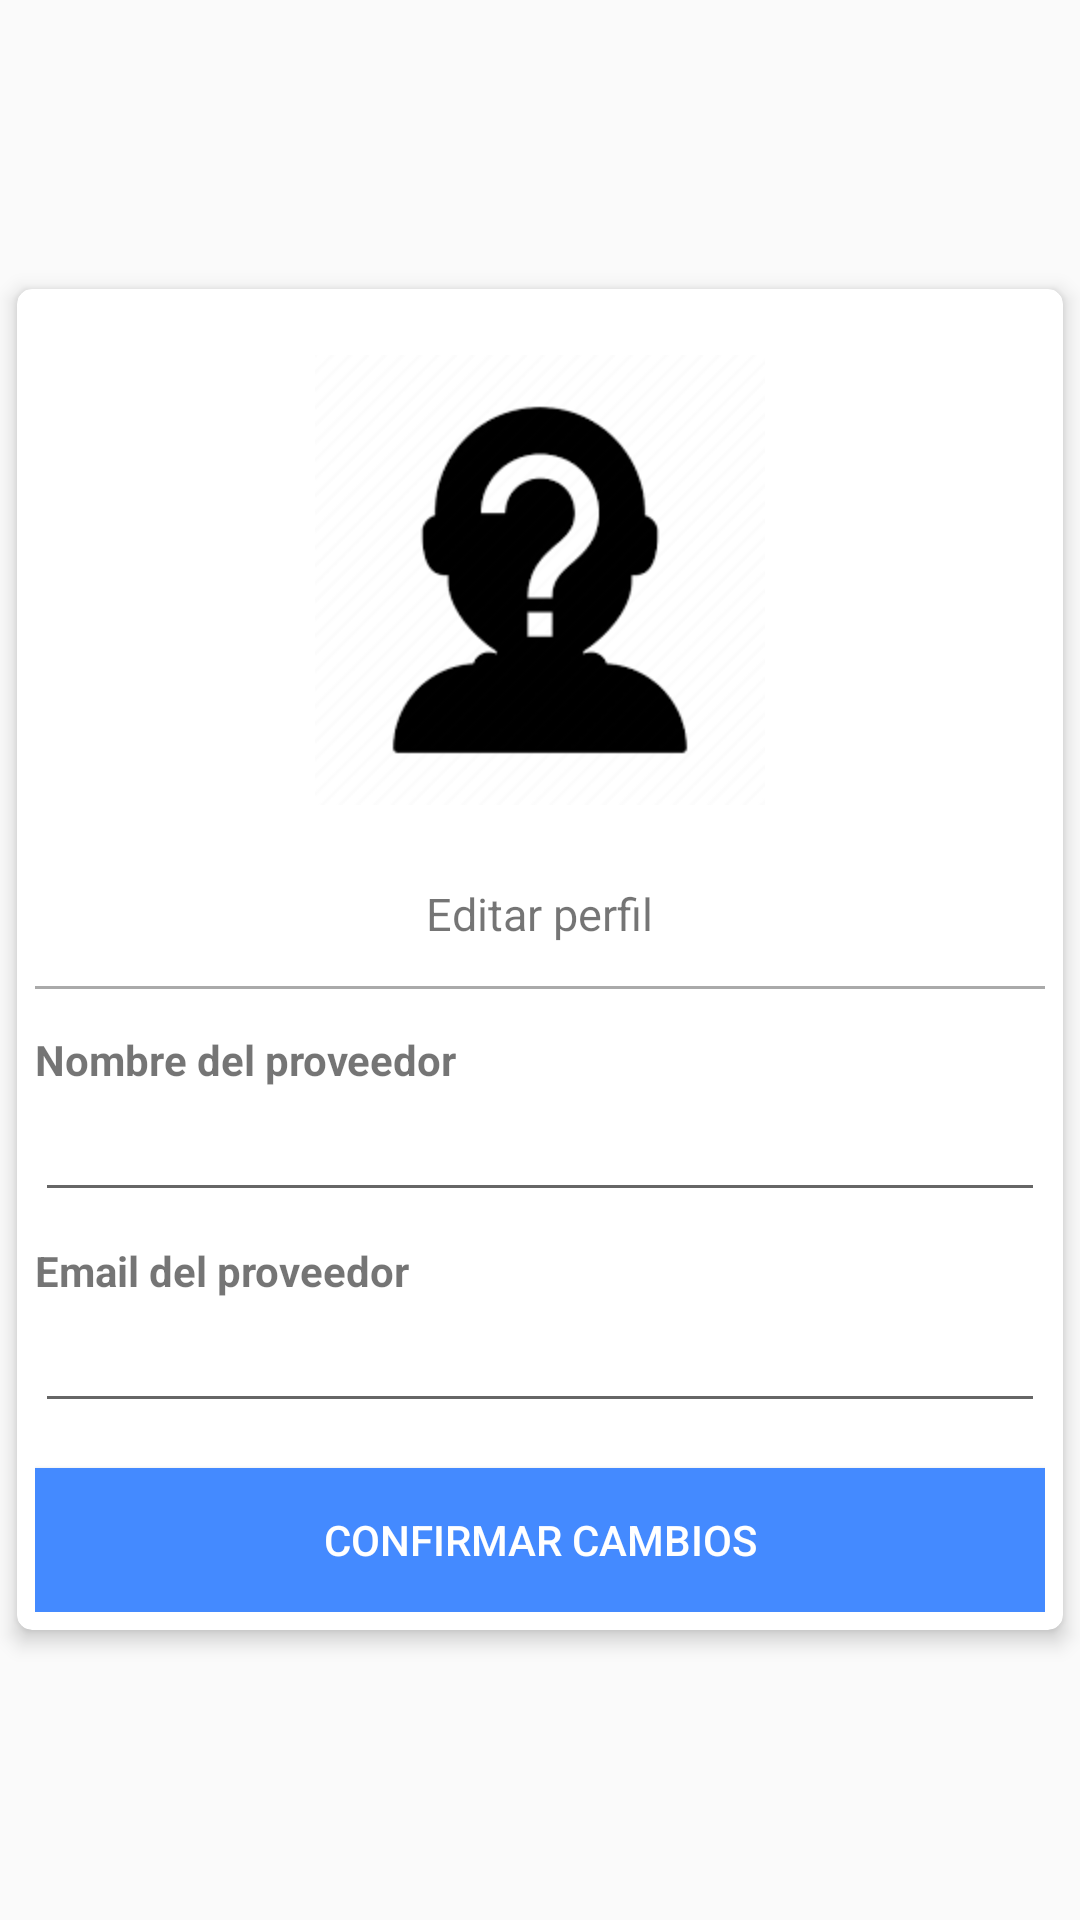

Named icons in this screenshot (1080x1920) and their bounding boxes, [left=x1, top=y1, right=x2, bottom=y2]:
incognito: [left=392, top=406, right=688, bottom=754]
